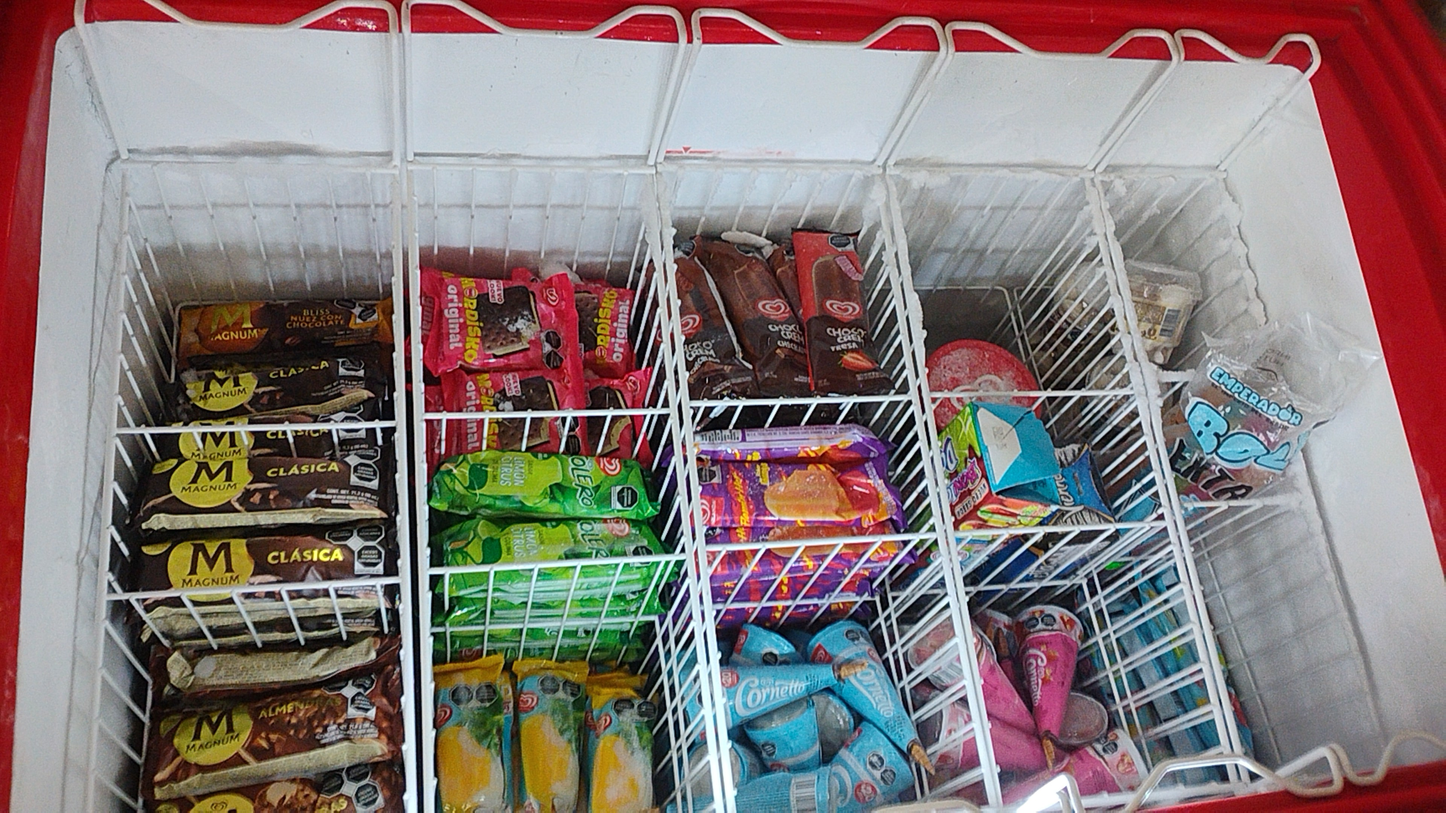rejilla: (657, 173, 736, 813), (645, 174, 723, 813), (1086, 179, 1173, 523), (1096, 183, 1182, 518), (86, 167, 130, 812), (1296, 454, 1387, 754), (886, 176, 952, 528), (937, 532, 997, 807), (408, 170, 433, 812), (1176, 518, 1243, 754), (947, 525, 1003, 806), (1167, 520, 1231, 754), (394, 173, 416, 813), (875, 176, 917, 390), (1218, 180, 1265, 329), (107, 576, 402, 599), (427, 554, 687, 574), (911, 389, 944, 533), (705, 533, 939, 550), (120, 161, 399, 173), (952, 521, 1167, 536), (116, 421, 399, 432), (689, 394, 913, 406), (423, 408, 671, 418), (887, 166, 1094, 177), (408, 165, 655, 173), (657, 165, 881, 173), (928, 390, 1138, 397), (1181, 498, 1313, 507), (1097, 172, 1228, 177), (1148, 371, 1195, 381), (1238, 764, 1250, 782), (1227, 764, 1239, 781)
